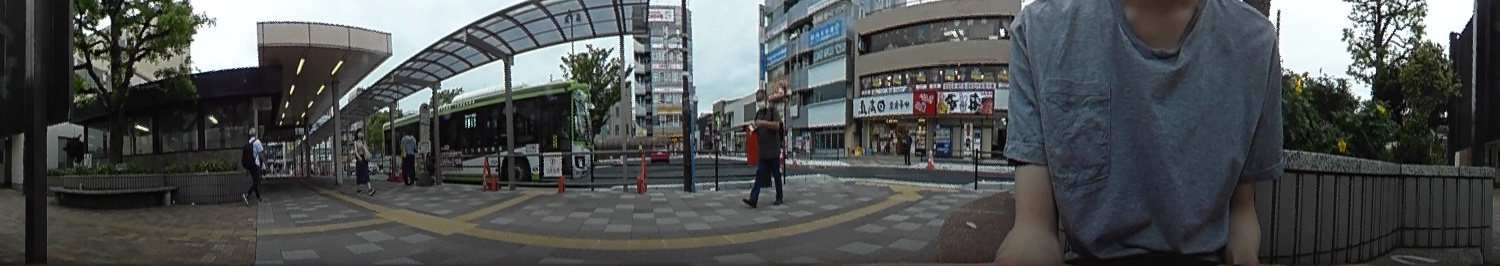difficult_person: (902, 129, 912, 164)
person: (748, 88, 784, 205), (242, 128, 265, 204), (352, 128, 376, 196), (400, 129, 417, 186)
